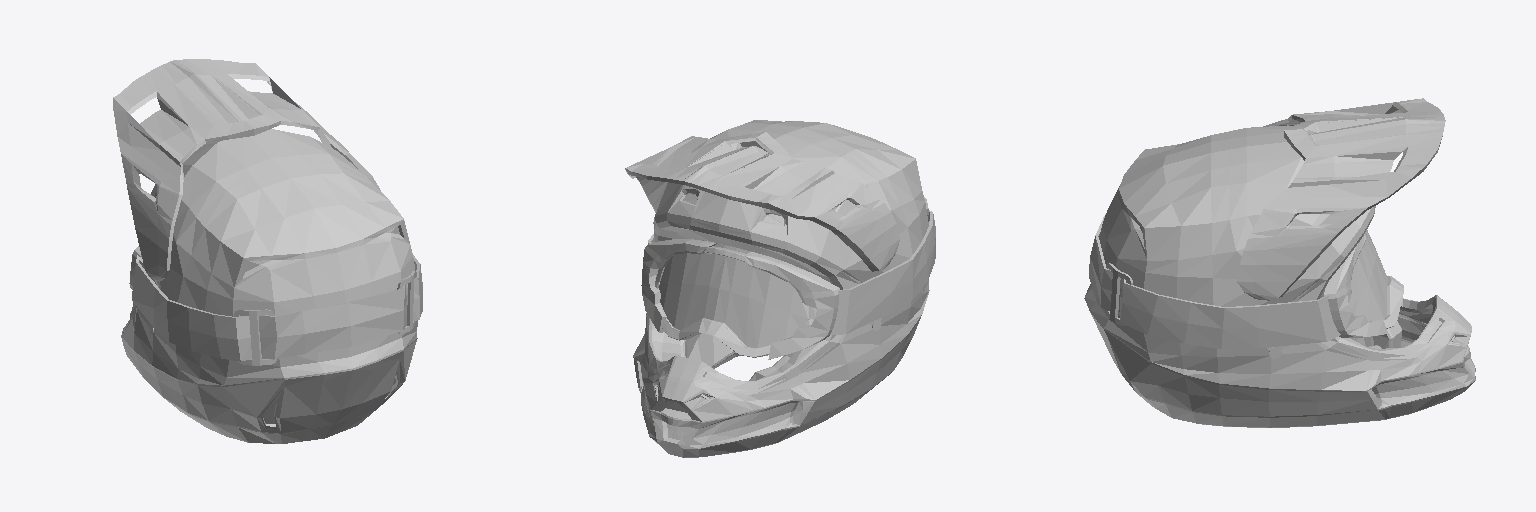
The model's file is Fox X Supreme.obj.
3 views of the same model, side by side, from view 1: azimuth 30°, elevation 25°; view 2: azimuth 150°, elevation 25°; view 3: azimuth 270°, elevation 25° (orthographic).
Parts seen in each view (by area): view 1: Cube, Plane_Plane.003; view 2: Cube, Plane_Plane.003; view 3: Cube, Plane_Plane.003.
Part boxes in pixels (bbox=[...]): Cube: bbox=[113, 59, 417, 443]; Plane_Plane.003: bbox=[129, 246, 422, 365]; Cube: bbox=[625, 120, 929, 457]; Plane_Plane.003: bbox=[641, 197, 935, 359]; Cube: bbox=[1084, 98, 1475, 427]; Plane_Plane.003: bbox=[1089, 214, 1403, 348].
Bounding box in the file's own units: 0.8805 × 0.98 × 1.27.